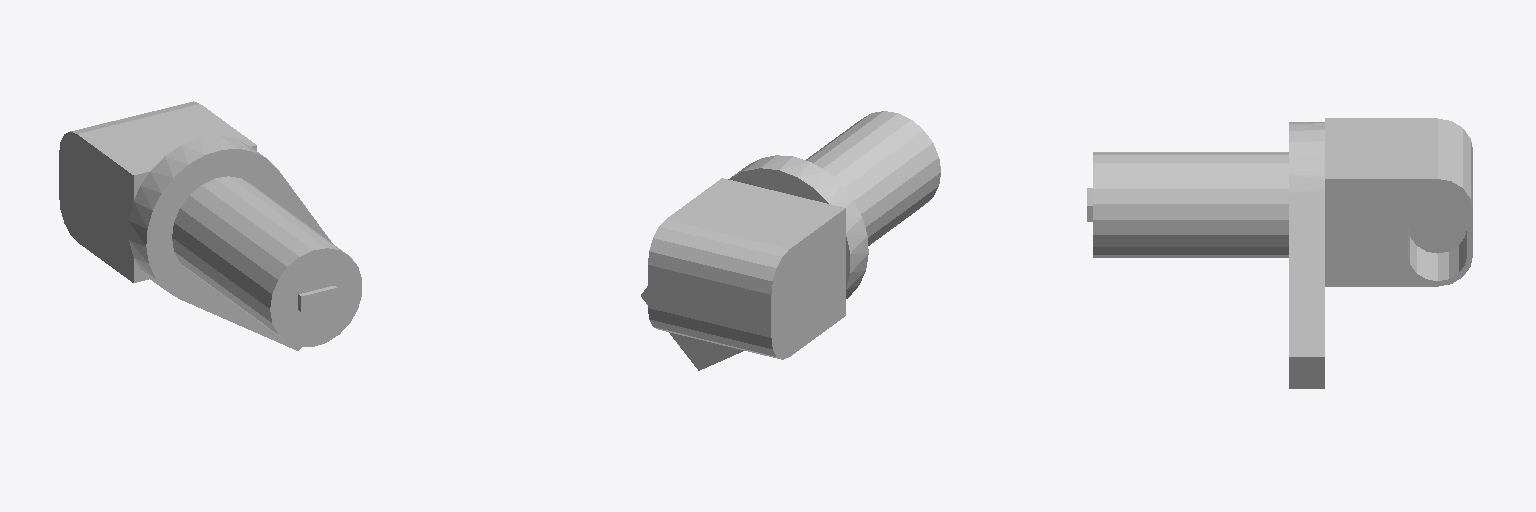
The model's file is Датчик положения коленчатого вала.obj.
The picture shows the model from 3 angles: view 1: azimuth 30°, elevation 25°; view 2: azimuth 150°, elevation 25°; view 3: azimuth 270°, elevation 25°; orthographic projection.
Parts seen in each view (by area): view 1: Датчик_положения_коленчатого_вала; view 2: Датчик_положения_коленчатого_вала; view 3: Датчик_положения_коленчатого_вала.
Boxes of the visible parts, x1=… form: Датчик_положения_коленчатого_вала: x1=59, y1=101, x2=361, y2=350; Датчик_положения_коленчатого_вала: x1=641, y1=111, x2=940, y2=370; Датчик_положения_коленчатого_вала: x1=1087, y1=118, x2=1472, y2=388.
Bounding box in the file's own units: 40.86 × 40.87 × 65.